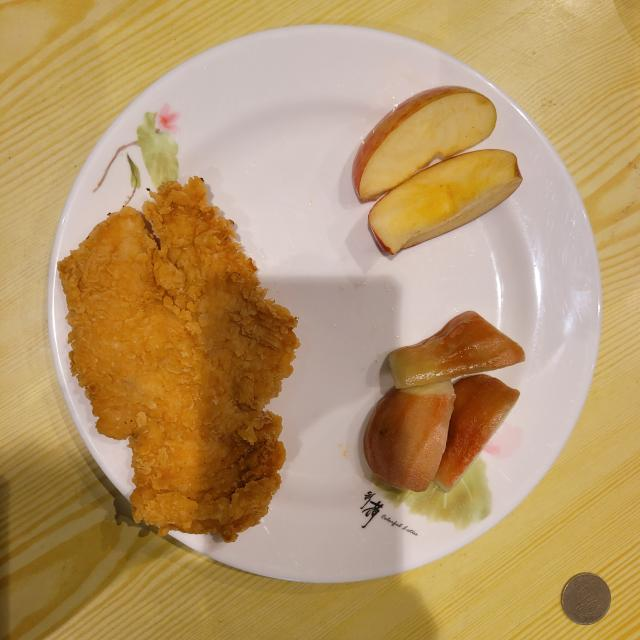apple -sliced-: (352, 86, 522, 254)
coin: (561, 572, 611, 625)
fried chicken cutlet: (58, 178, 299, 541)
